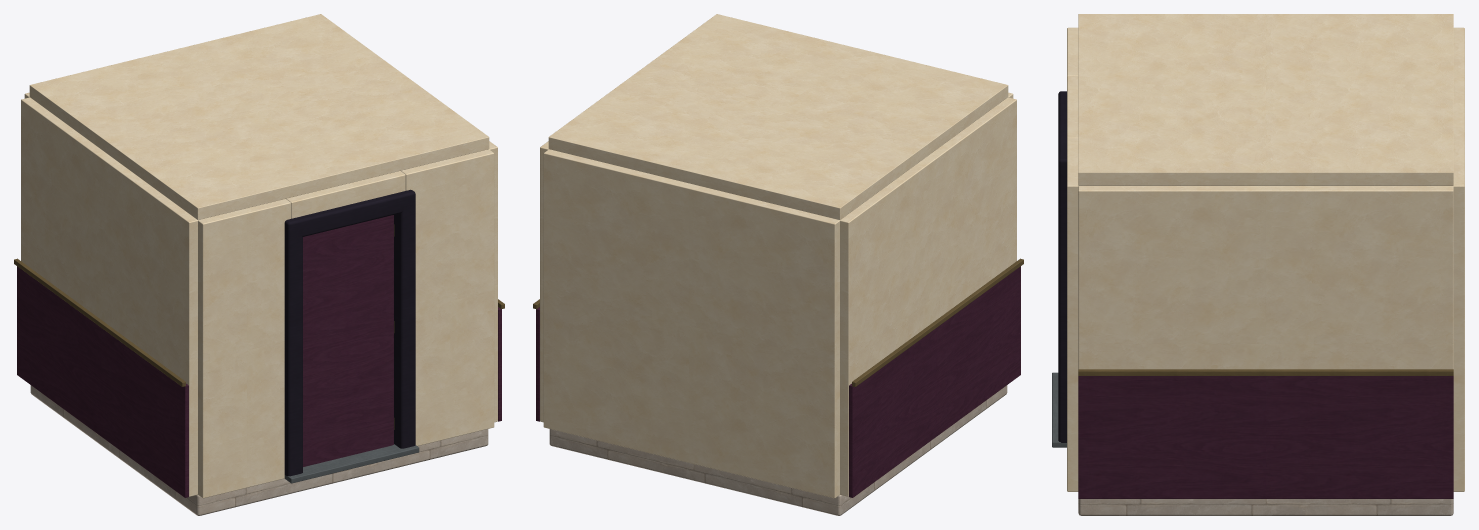
Rendered from explore3d__ferris_cabin.glb.
The picture shows the model from 3 angles, left to right: view 1: azimuth 30°, elevation 25°; view 2: azimuth 150°, elevation 25°; view 3: azimuth 270°, elevation 25°; orthographic projection. The views are drawn at different scales.
Visible parts, largest first — view 1: Runtime_local_ferris_cabin; view 2: Runtime_local_ferris_cabin; view 3: Runtime_local_ferris_cabin.
Part boxes in pixels (x1,y1,x2,y2): Runtime_local_ferris_cabin: (14,14,504,515); Runtime_local_ferris_cabin: (533,14,1023,515); Runtime_local_ferris_cabin: (1052,14,1464,515).
Size of the model in its own units: 3.32 by 3.04 by 3.3.
Materials: 11 (9 with a texture image).
